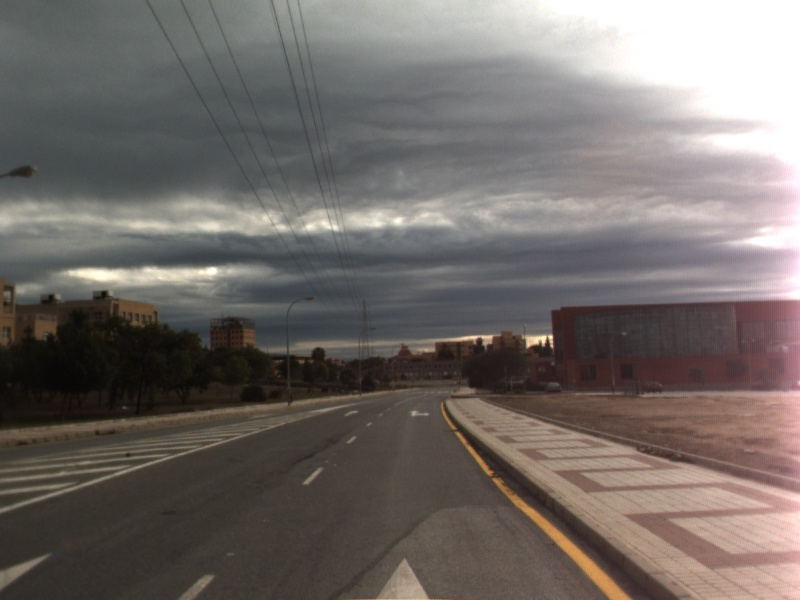STRAIGHT: (341, 408, 361, 418)
STRAIGHT_RIGHT: (406, 408, 432, 419)
